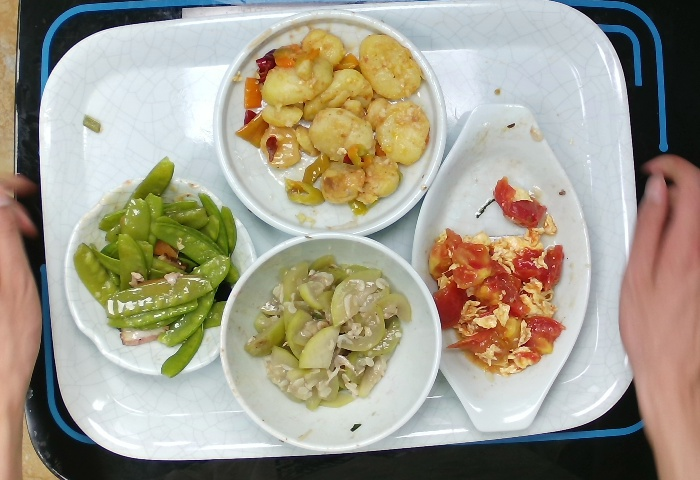JYsf-Ao_Yuan_Wan: (58, 156, 258, 384)
JYsf-Fan_Wan: (216, 229, 442, 456)
JYsf-Xiao_Yuan_Pan: (211, 6, 450, 242)
JYsf-Yu_Pan: (409, 100, 594, 434)
